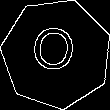O_S: (32, 26, 81, 81)
